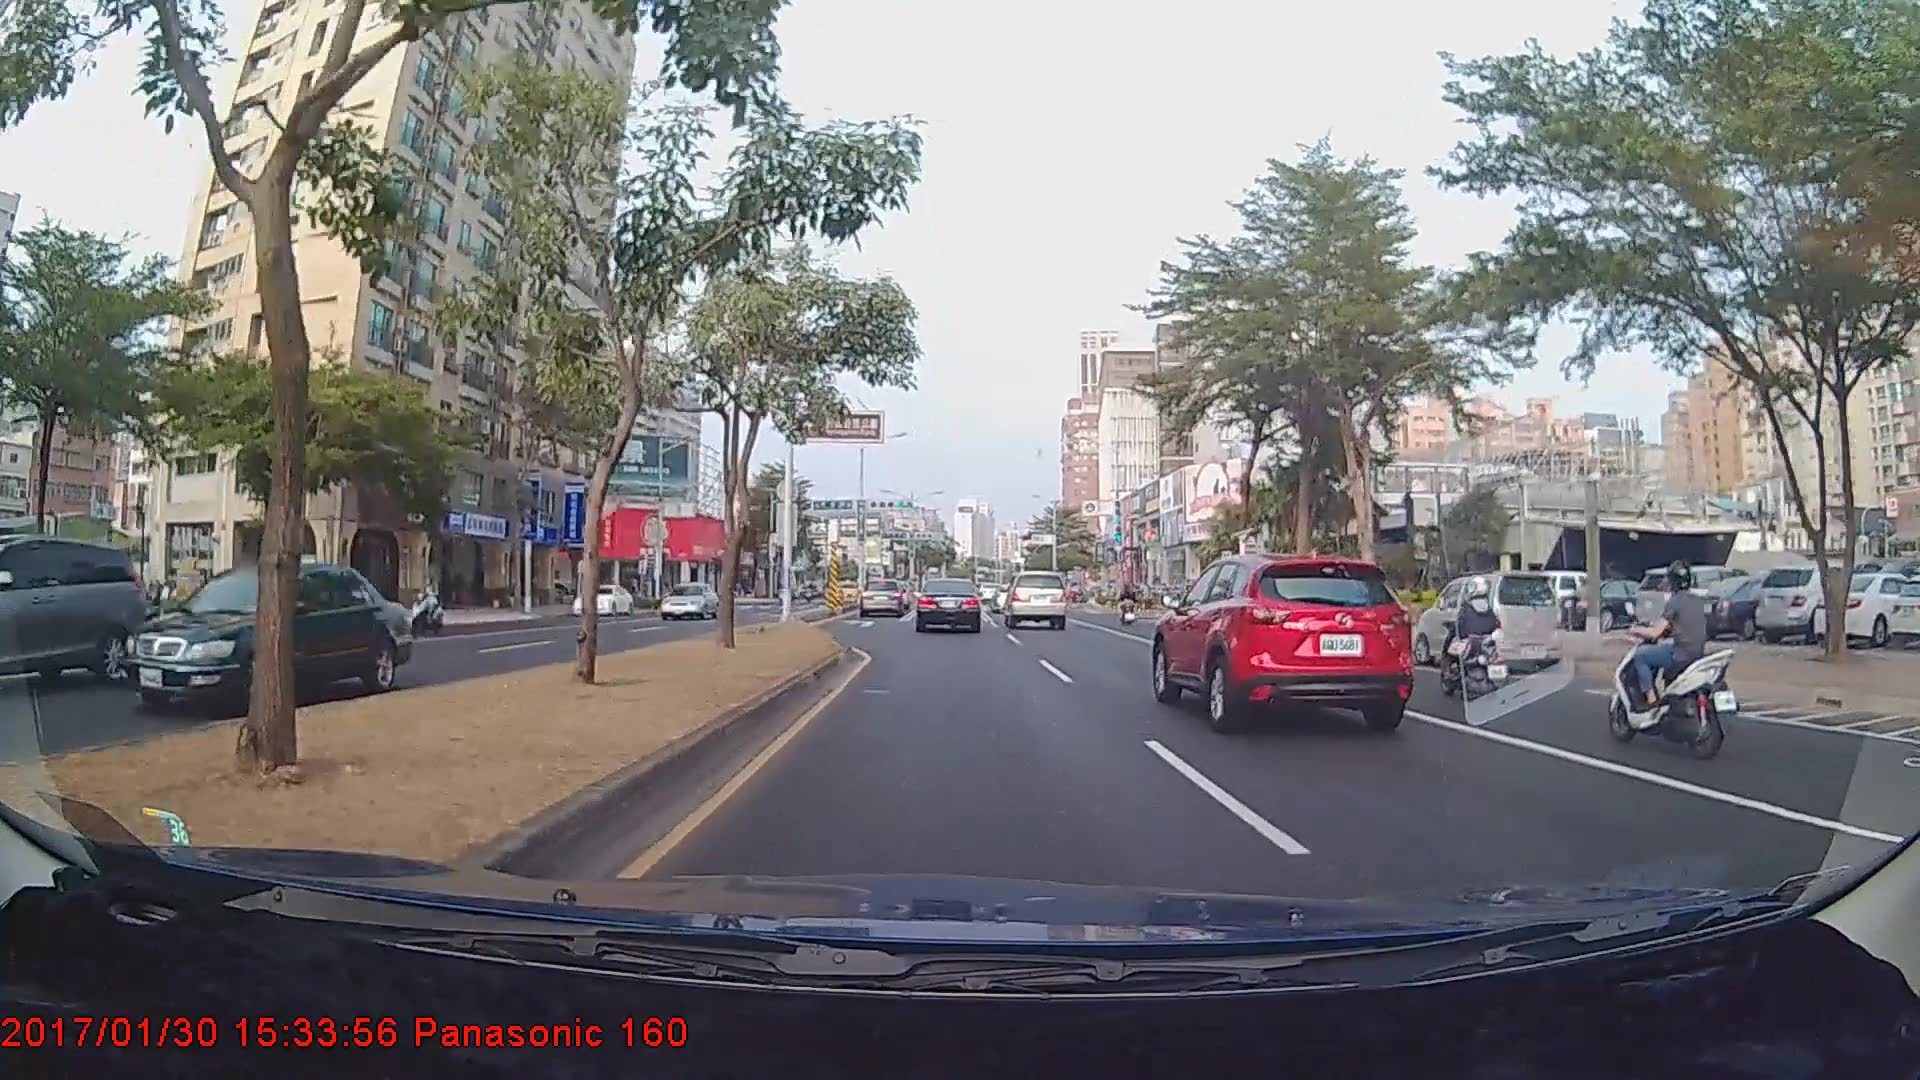rider: (1599, 555, 1745, 759), (1429, 572, 1525, 711), (1120, 588, 1144, 631)
vehicle: (1152, 547, 1413, 728), (113, 561, 414, 706), (0, 538, 147, 697), (1412, 571, 1564, 672), (1632, 566, 1759, 636), (1002, 569, 1068, 629), (915, 577, 982, 633), (658, 582, 720, 618), (571, 580, 631, 616), (858, 577, 907, 618)
